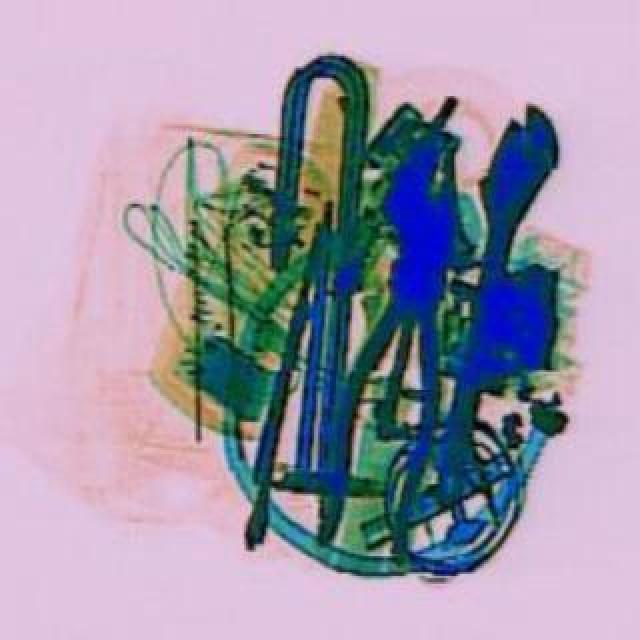scissors: (412, 94, 564, 500)
wrench: (304, 134, 490, 562)
